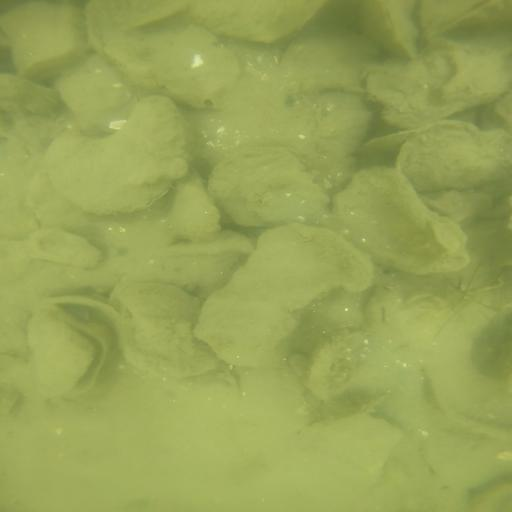Oyster-Closed: (196, 225, 382, 369), (44, 92, 191, 215), (325, 161, 473, 283), (107, 282, 226, 382), (208, 146, 333, 231), (191, 1, 327, 43), (344, 2, 421, 63), (19, 227, 109, 277)
Oyster-Open: (394, 119, 512, 195), (29, 318, 112, 402)
